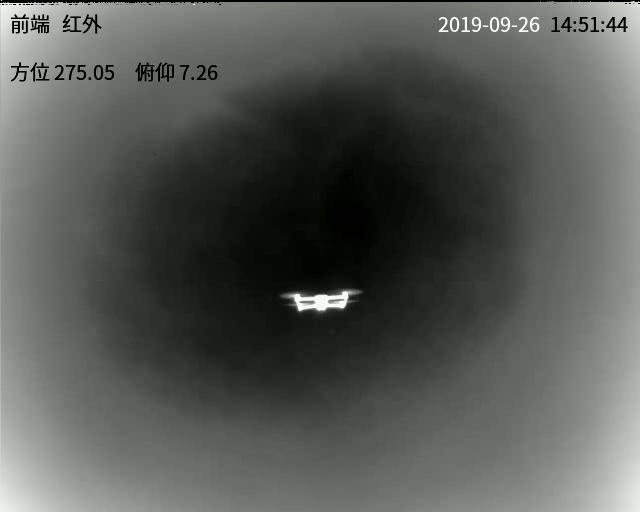DRONE: (283, 288, 359, 312)
